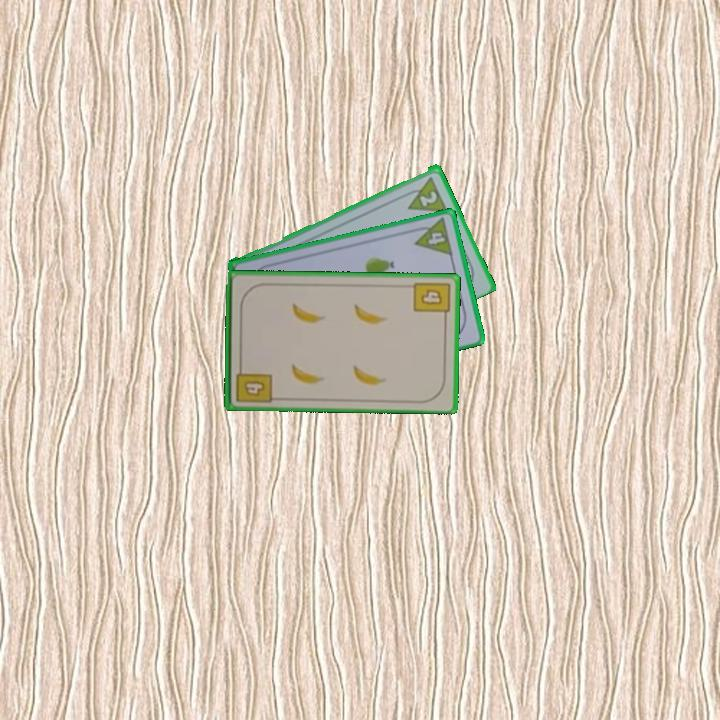2p: (399, 173, 450, 215)
4b: (410, 278, 452, 322), (232, 361, 274, 405)
4p: (408, 214, 455, 258)
